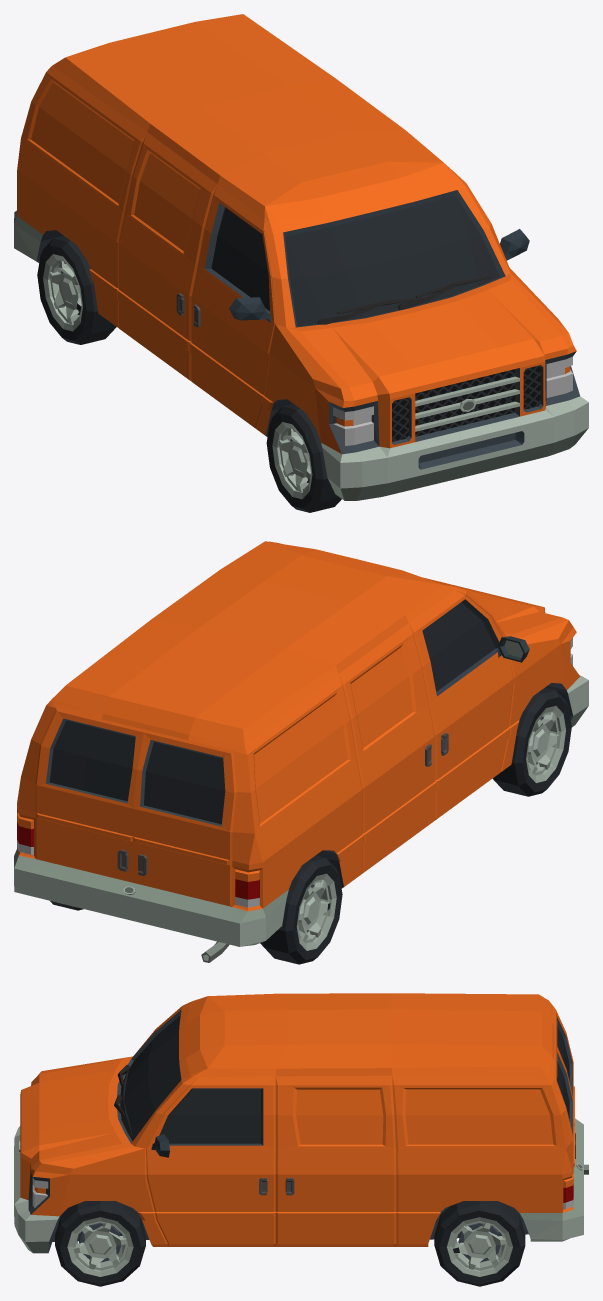
File: Van_Orange.fbx
3 views of the same model, one above another, from view 1: azimuth 30°, elevation 25°; view 2: azimuth 150°, elevation 25°; view 3: azimuth 270°, elevation 25° (orthographic). The views are drawn at different scales.
Visible parts, largest first — view 1: SM_Van_4, SM_Veh_Car_Van_Wheel_rr.003, SM_Veh_Car_Van_Wheel_fr.003; view 2: SM_Van_4, SM_Veh_Car_Van_Wheel_rr.003, SM_Veh_Car_Van_Wheel_fr.003; view 3: SM_Van_4, SM_Veh_Car_Van_Wheel_rl.003, SM_Veh_Car_Van_Wheel_fl.003.
Boxes of the visible parts, box(x1,y1,x2,y2) form: SM_Van_4: box(14, 14, 588, 500); SM_Veh_Car_Van_Wheel_rr.003: box(37, 236, 116, 344); SM_Veh_Car_Van_Wheel_fr.003: box(266, 404, 341, 512); SM_Van_4: box(14, 541, 588, 962); SM_Veh_Car_Van_Wheel_rr.003: box(260, 855, 342, 964); SM_Veh_Car_Van_Wheel_fr.003: box(492, 687, 571, 796); SM_Van_4: box(14, 993, 588, 1253); SM_Veh_Car_Van_Wheel_rl.003: box(434, 1201, 525, 1286); SM_Veh_Car_Van_Wheel_fl.003: box(55, 1201, 145, 1286).
Size of the model in its own units: 2.83 by 2.32 by 5.75.
